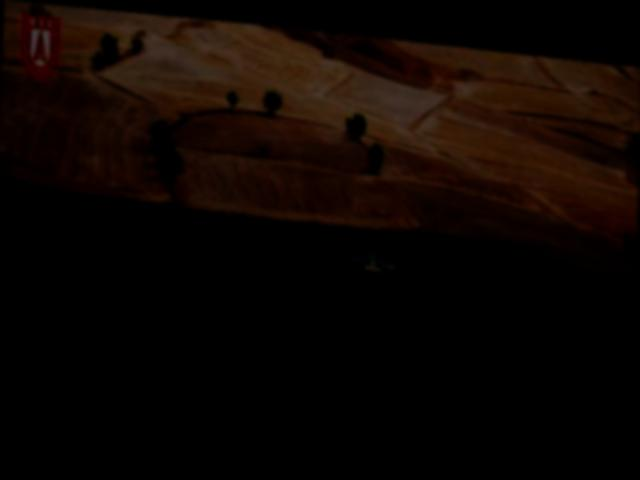uav: (348, 240, 401, 268)
